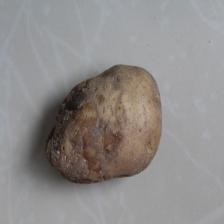Diseased-fungal potato: (46, 62, 166, 185)
